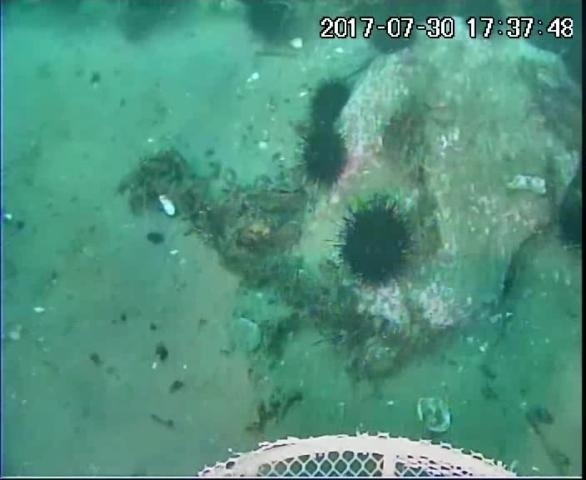echinus: (333, 197, 417, 289), (516, 1, 585, 63), (296, 125, 351, 189), (305, 75, 357, 132), (239, 1, 297, 48), (453, 1, 510, 48), (363, 15, 422, 58), (553, 194, 585, 259)
